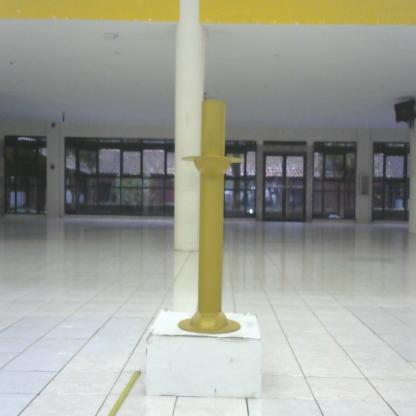pole: (179, 97, 247, 339)
